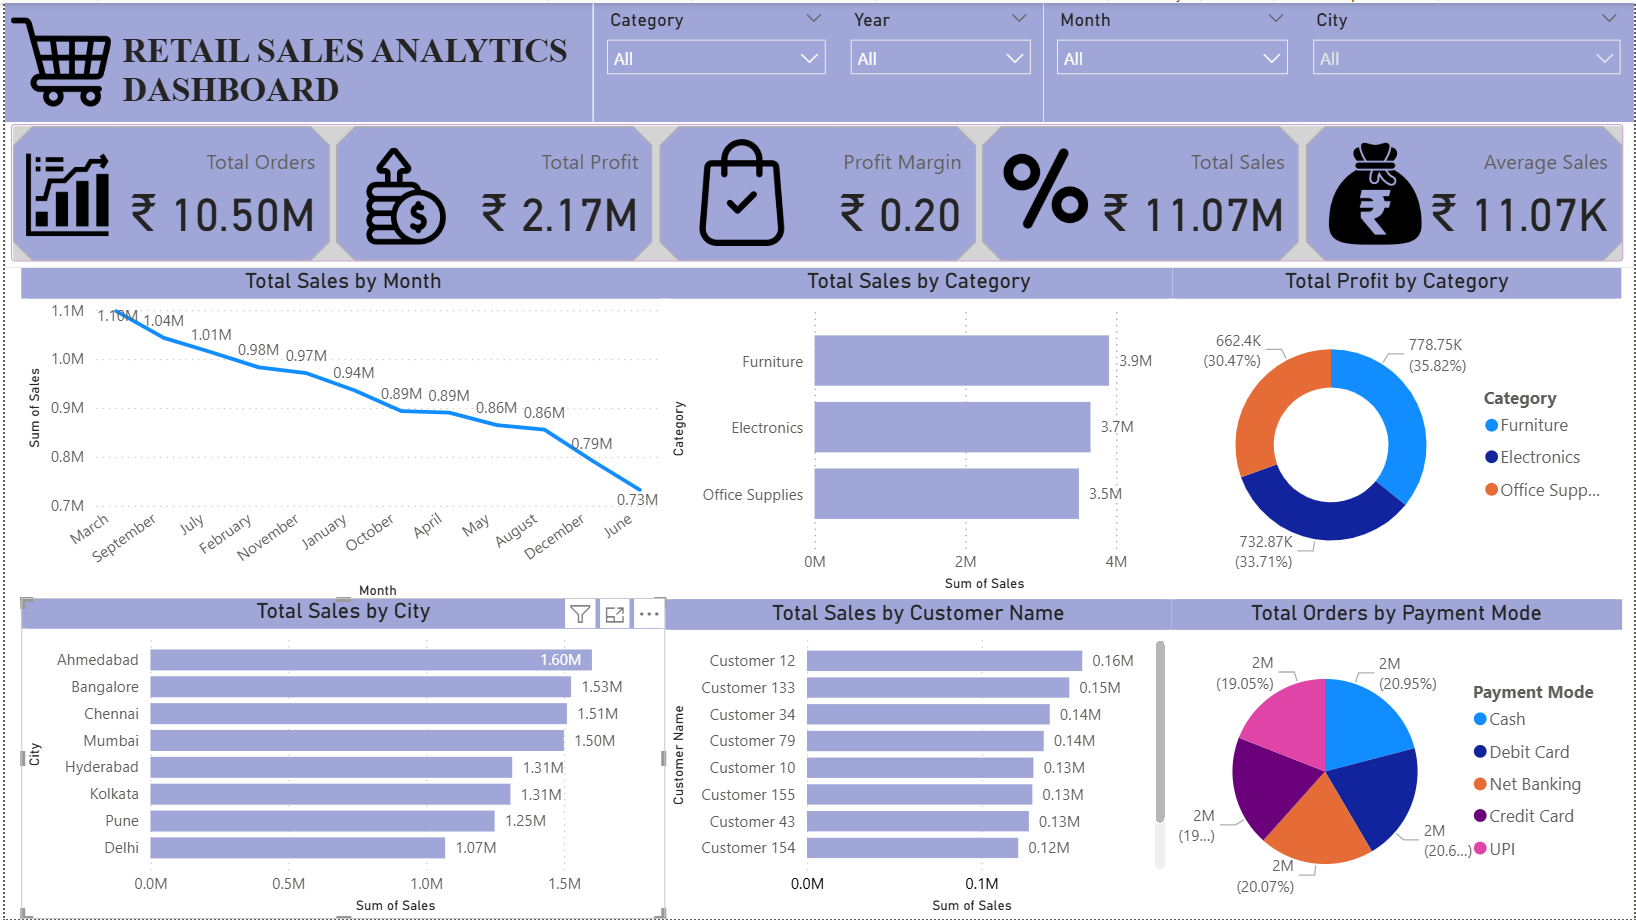

Layout of this report page (visuals, bound fields, positions):
{"tool":"powerbi","page":{"name":"Page 1","canvas":[1280,720],"ordinal":0},"visuals":[{"type":"cardVisual","fields":{"Data":["RetailSales.Total Orders","RetailSales.Total Profit","RetailSales.Profit Margin","RetailSales.Total Sales","RetailSales.Average Sales"]},"box":[0,90.6,1280.3,118],"z":0},{"type":"lineChart","title":"Total Sales by Month","fields":{"Category":["RetailSales.Month"],"Y":["Sum(RetailSales.Sales)"]},"box":[12.3,208.6,506.3,264.8],"z":1000},{"type":"clusteredBarChart","title":"Total Sales by Category","fields":{"Category":["RetailSales.Category"],"Y":["Sum(RetailSales.Sales)"]},"box":[518.7,208.6,399.3,259.3],"z":2000},{"type":"donutChart","title":"Total Profit by Category","fields":{"Category":["RetailSales.Category"],"Y":["Sum(RetailSales.Profit)"]},"box":[918,208.6,352.7,259.3],"z":3000},{"type":"barChart","title":"Total Sales by City","fields":{"Category":["RetailSales.City"],"Y":["Sum(RetailSales.Sales)"]},"box":[12.3,467.9,506.3,252.5],"z":4000},{"type":"barChart","title":"Total Sales by Customer Name","fields":{"Category":["RetailSales.Customer Name"],"Y":["Sum(RetailSales.Sales)"]},"box":[518.3,468.3,398.3,251.7],"z":5000},{"type":"pieChart","fields":{"Category":["RetailSales.Payment Mode"],"Y":["RetailSales.Total Orders"]},"box":[916.6,468.5,354.1,252],"z":6000},{"type":"slicer","fields":{"Values":["RetailSales.Category"]},"box":[462.4,0,192.1,93.3],"z":7000},{"type":"slicer","fields":{"Values":["RetailSales.Year"]},"box":[654.5,0,161.9,93.3],"z":8000},{"type":"slicer","fields":{"Values":["RetailSales.Month"]},"box":[816.5,0,201.7,93.3],"z":9000},{"type":"slicer","fields":{"Values":["RetailSales.City"]},"box":[1018.2,0,262.1,93.3],"z":10000},{"type":"textbox","box":[87.8,0,374.6,93.3],"z":11000},{"type":"image","box":[0,0,87.8,93.3],"z":12000},{"type":"image","box":[12.3,111.7,74.9,77.6],"z":13000},{"type":"image","box":[265.6,109,100.8,85.8],"z":14000},{"type":"image","box":[518.9,102.1,121.2,94],"z":15000},{"type":"image","box":[780.4,102.1,76.3,87.2],"z":16000},{"type":"image","box":[1032.4,104.9,88.5,89.9],"z":17000}]}

Visuals, with their boxes in screenshot pixels (x1, y1, x2, y2), scaled from the page's 1280x720 canvas onto the 1636x922 screenshot:
cardVisual - RetailSales.Total Orders x RetailSales.Total Profit: l=0, t=116, r=1635, b=267
"Total Sales by Month" lineChart: l=16, t=267, r=663, b=606
"Total Sales by Category" clusteredBarChart: l=663, t=267, r=1173, b=599
"Total Profit by Category" donutChart: l=1173, t=267, r=1624, b=599
"Total Sales by City" barChart: l=16, t=599, r=663, b=921
"Total Sales by Customer Name" barChart: l=662, t=600, r=1172, b=921
pieChart - RetailSales.Payment Mode x RetailSales.Total Orders: l=1172, t=600, r=1624, b=921
slicer - RetailSales.Category: l=591, t=0, r=837, b=119
slicer - RetailSales.Year: l=837, t=0, r=1043, b=119
slicer - RetailSales.Month: l=1044, t=0, r=1301, b=119
slicer - RetailSales.City: l=1301, t=0, r=1635, b=119
textbox: l=112, t=0, r=591, b=119
image: l=0, t=0, r=112, b=119
image: l=16, t=143, r=111, b=242
image: l=339, t=140, r=468, b=249
image: l=663, t=131, r=818, b=251
image: l=997, t=131, r=1095, b=242
image: l=1320, t=134, r=1433, b=249
